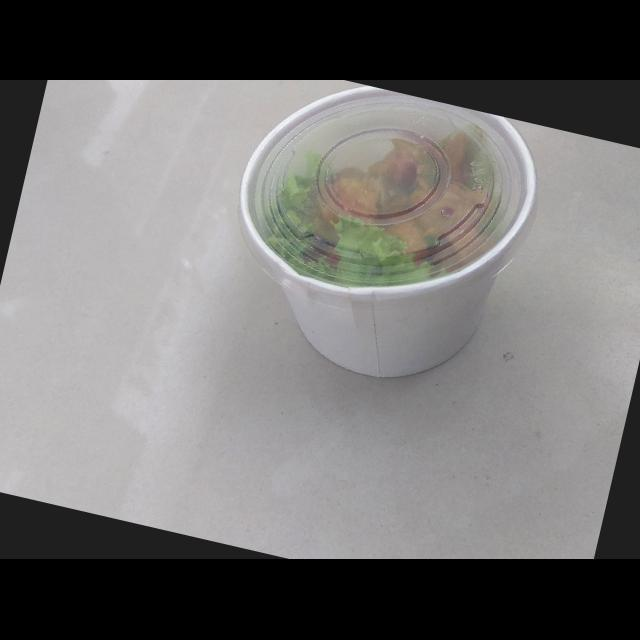rice-bowl: (187, 80, 572, 414)
